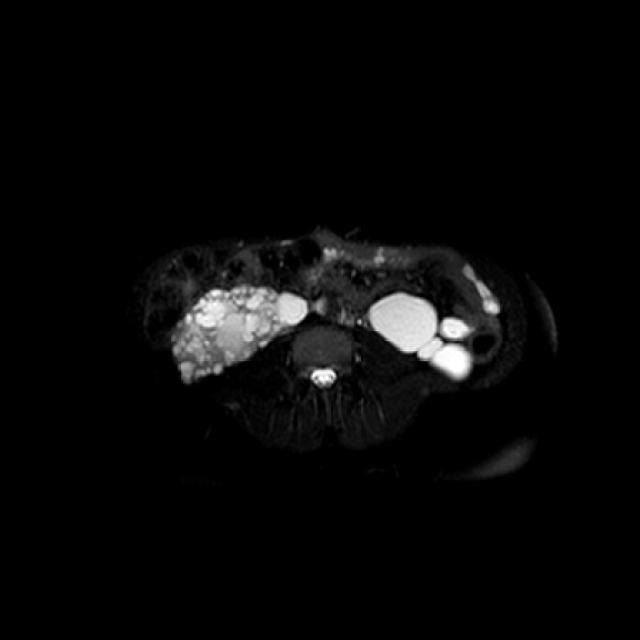sag: (170, 283, 308, 385)
sol: (366, 292, 473, 382)
